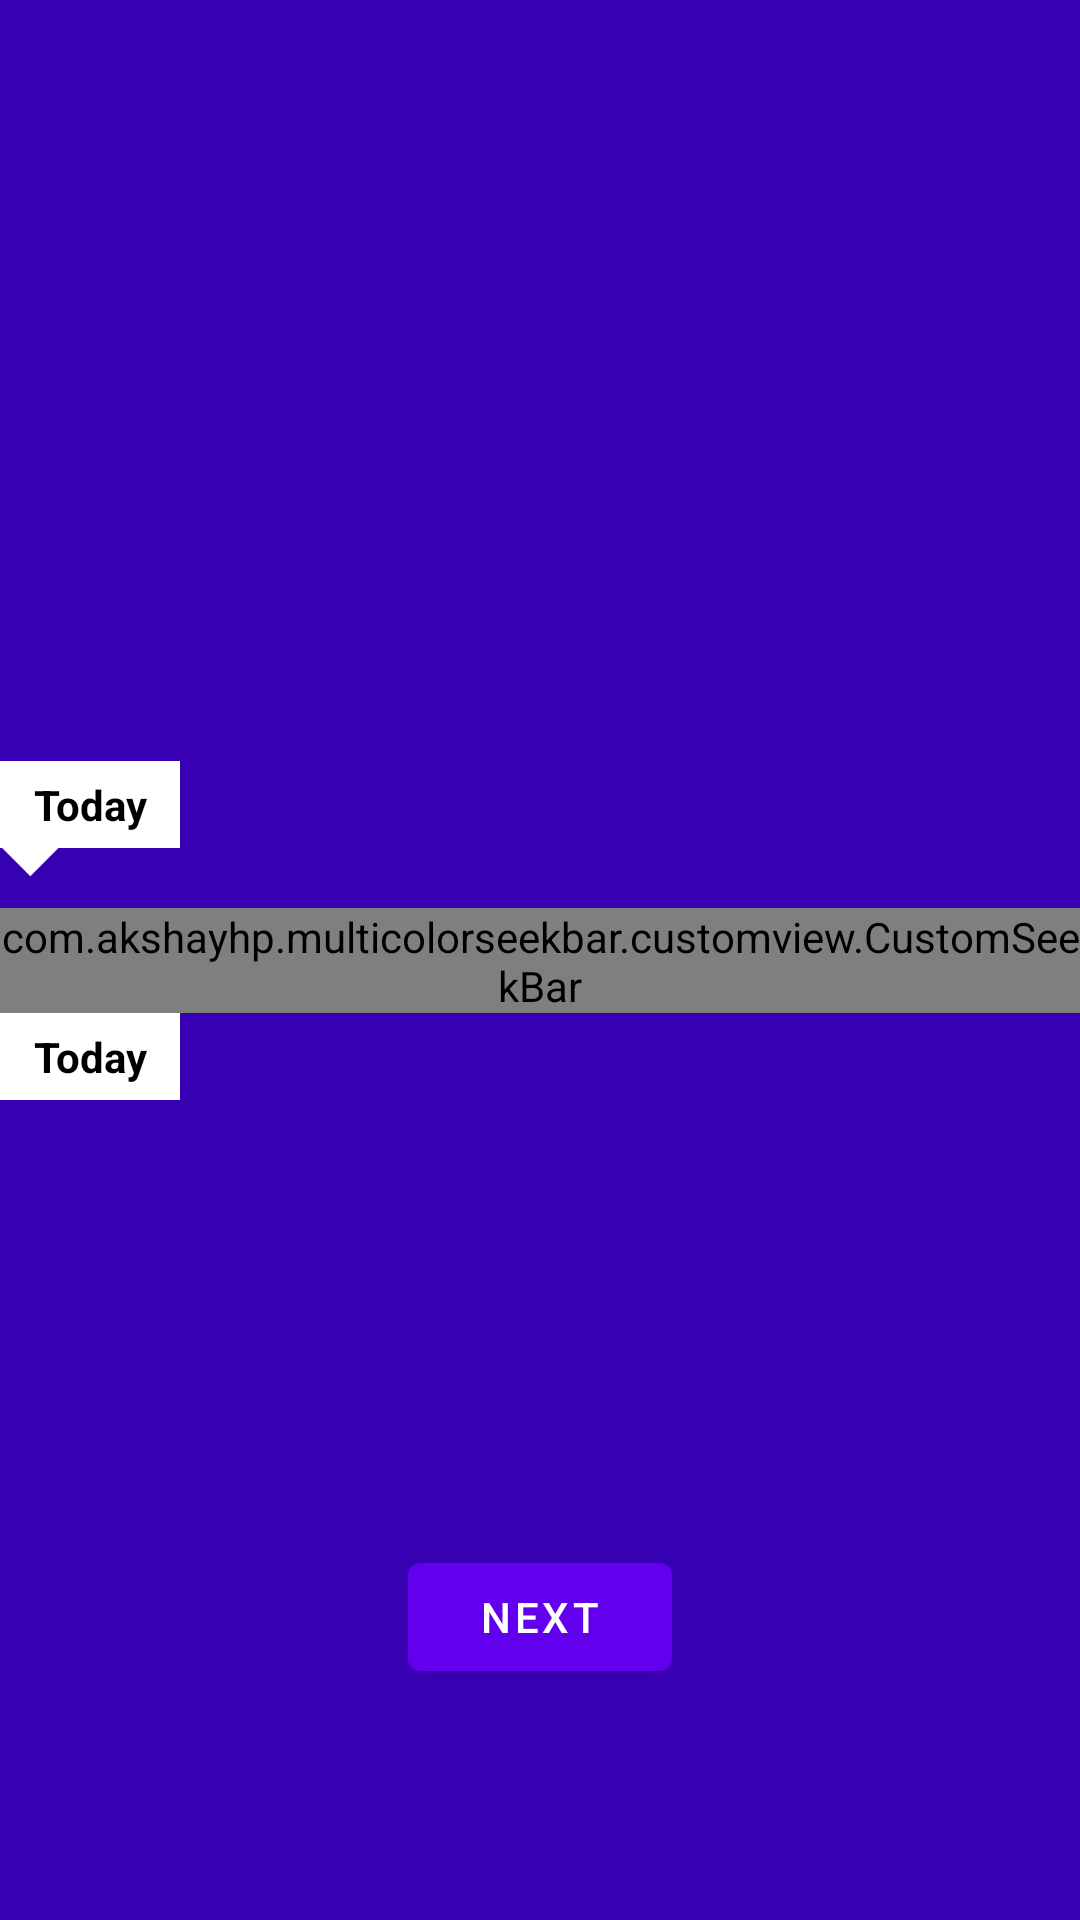

Where to tap for icons on this 1080 × 1920 app screen, as [x,y]:
arrow: [30,878]
